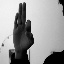f: (11, 1, 36, 54)
